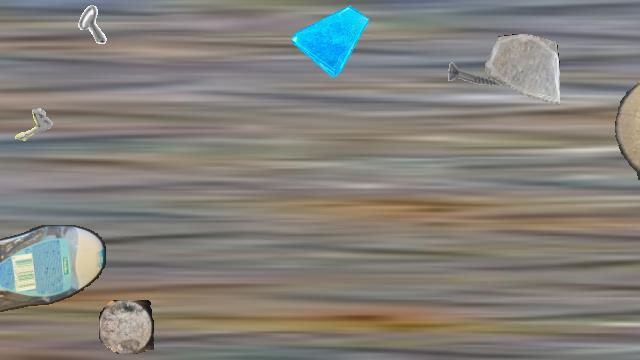glass: (292, 1, 368, 77), (485, 34, 559, 108)
metal: (46, 1, 108, 63), (446, 43, 508, 105), (0, 99, 57, 159)
plastic: (0, 225, 106, 317)
wood: (615, 67, 640, 189), (99, 300, 153, 354)
